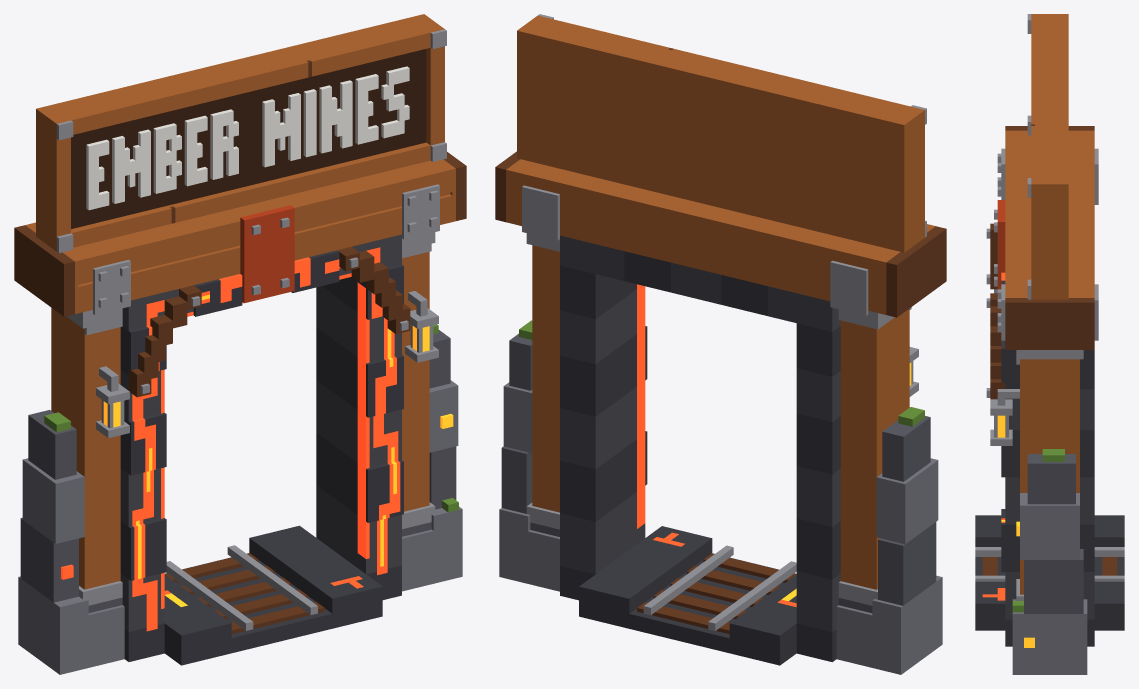
Rendered from Lobby_PortalArch_EmberMines.glb.
3 renders of one model, left to right at view 1: azimuth 30°, elevation 25°; view 2: azimuth 150°, elevation 25°; view 3: azimuth 270°, elevation 25°, orthographic. The views are drawn at different scales.
Visible parts, largest first — view 1: PortalArch_EmberMines_TimberBrown, PortalArch_EmberMines_CharcoalRockDark, PortalArch_EmberMines_SignBoard, PortalArch_EmberMines_GreyStone, PortalArch_EmberMines_SignLetters, PortalArch_EmberMines_CharcoalRock, PortalArch_EmberMines_IronGrey, PortalArch_EmberMines_TimberDark, PortalArch_EmberMines_EmberRed, PortalArch_EmberMines_GreyStoneDark, PortalArch_EmberMines_IronPlateRed, PortalArch_EmberMines_EmberOrange; view 2: PortalArch_EmberMines_TimberBrown, PortalArch_EmberMines_CharcoalRockDark, PortalArch_EmberMines_CharcoalRock, PortalArch_EmberMines_GreyStone, PortalArch_EmberMines_GreyStoneDark, PortalArch_EmberMines_IronGrey, PortalArch_EmberMines_TimberDark, PortalArch_EmberMines_EmberRed; view 3: PortalArch_EmberMines_TimberBrown, PortalArch_EmberMines_CharcoalRockDark, PortalArch_EmberMines_GreyStone, PortalArch_EmberMines_TimberDark, PortalArch_EmberMines_GreyStoneDark, PortalArch_EmberMines_IronGrey, PortalArch_EmberMines_CharcoalRock, PortalArch_EmberMines_IronPlateRed, PortalArch_EmberMines_Moss, PortalArch_EmberMines_EmberOrange.
Boxes of the visible parts, bbox=[...] form: PortalArch_EmberMines_TimberBrown: bbox=[25, 14, 455, 589]; PortalArch_EmberMines_CharcoalRockDark: bbox=[120, 250, 403, 665]; PortalArch_EmberMines_SignBoard: bbox=[71, 49, 426, 228]; PortalArch_EmberMines_GreyStone: bbox=[18, 380, 462, 674]; PortalArch_EmberMines_SignLetters: bbox=[86, 66, 409, 210]; PortalArch_EmberMines_CharcoalRock: bbox=[120, 234, 401, 631]; PortalArch_EmberMines_IronGrey: bbox=[56, 29, 446, 630]; PortalArch_EmberMines_TimberDark: bbox=[14, 60, 466, 633]; PortalArch_EmberMines_EmberRed: bbox=[61, 247, 400, 631]; PortalArch_EmberMines_GreyStoneDark: bbox=[20, 330, 456, 612]; PortalArch_EmberMines_IronPlateRed: bbox=[240, 205, 294, 303]; PortalArch_EmberMines_EmberOrange: bbox=[103, 294, 453, 606]; PortalArch_EmberMines_TimberBrown: bbox=[506, 15, 935, 589]; PortalArch_EmberMines_CharcoalRockDark: bbox=[560, 251, 840, 665]; PortalArch_EmberMines_CharcoalRock: bbox=[560, 235, 840, 632]; PortalArch_EmberMines_GreyStone: bbox=[499, 382, 942, 674]; PortalArch_EmberMines_GreyStoneDark: bbox=[501, 333, 936, 613]; PortalArch_EmberMines_IronGrey: bbox=[522, 14, 926, 630]; PortalArch_EmberMines_TimberDark: bbox=[495, 48, 946, 634]; PortalArch_EmberMines_EmberRed: bbox=[637, 284, 796, 607]; PortalArch_EmberMines_TimberBrown: bbox=[1005, 14, 1094, 594]; PortalArch_EmberMines_CharcoalRockDark: bbox=[975, 280, 1124, 646]; PortalArch_EmberMines_GreyStone: bbox=[1012, 493, 1087, 674]; PortalArch_EmberMines_TimberDark: bbox=[982, 124, 1117, 575]; PortalArch_EmberMines_GreyStoneDark: bbox=[1024, 454, 1083, 613]; PortalArch_EmberMines_IronGrey: bbox=[975, 14, 1124, 600]; PortalArch_EmberMines_CharcoalRock: bbox=[1005, 389, 1094, 619]; PortalArch_EmberMines_IronPlateRed: bbox=[997, 200, 1005, 289]; PortalArch_EmberMines_Moss: bbox=[1012, 449, 1064, 612]; PortalArch_EmberMines_EmberOrange: bbox=[997, 415, 1034, 647].
Size of the model in its own units: 2.8 by 3.6 by 1.
